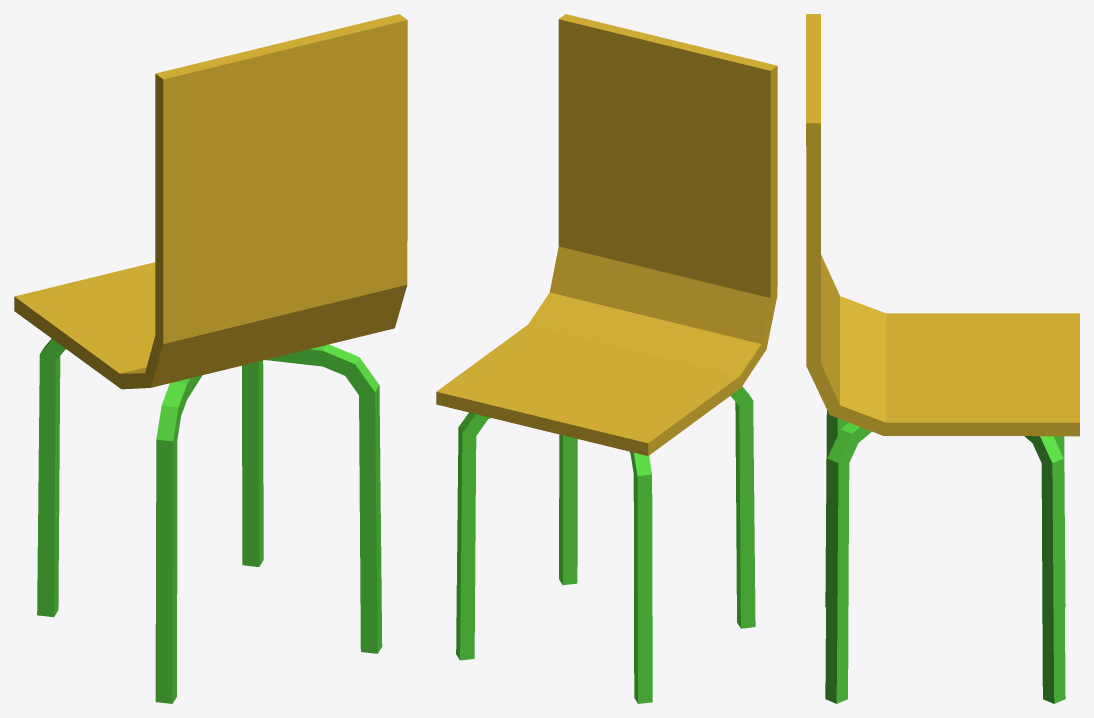
The model's file is Chair_06.fbx.
3 renders of one model, left to right at view 1: azimuth 30°, elevation 25°; view 2: azimuth 150°, elevation 25°; view 3: azimuth 270°, elevation 25°, orthographic. The views are drawn at different scales.
Parts seen in each view (by area): view 1: Chair_06; view 2: Chair_06; view 3: Chair_06.
Part boxes in pixels (x1=…): Chair_06: x1=14, y1=14, x2=407, y2=703; Chair_06: x1=436, y1=14, x2=777, y2=703; Chair_06: x1=806, y1=14, x2=1079, y2=703.
Bounding box in the file's own units: 45.72 × 114 × 48.36.
